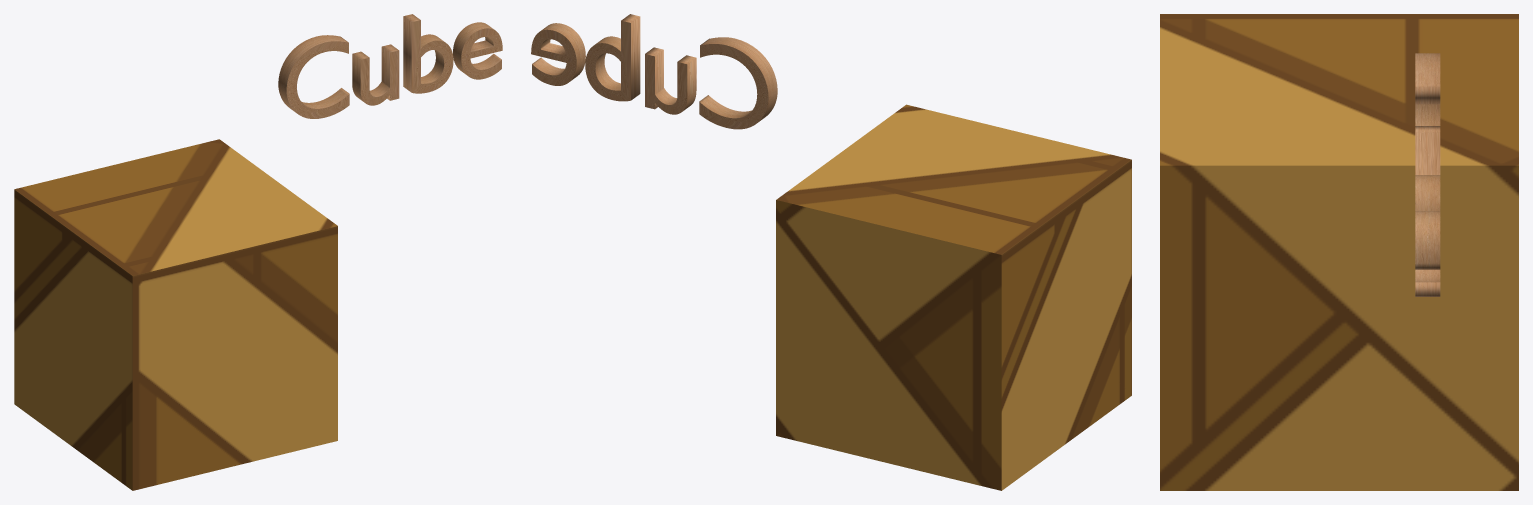
File: cubeboxtextured.gltf
3 views of the same model, side by side, from view 1: azimuth 30°, elevation 25°; view 2: azimuth 150°, elevation 25°; view 3: azimuth 270°, elevation 25° (orthographic). The views are drawn at different scales.
Parts seen in each view (by area): view 1: Cube, Text; view 2: Cube, Text; view 3: Cube, Text.
Part boxes in pixels (x1,y1,x2,y2): Cube: (14, 139, 337, 490); Text: (278, 14, 502, 118); Cube: (776, 104, 1131, 490); Text: (531, 14, 777, 129); Cube: (1160, 14, 1518, 490); Text: (1415, 53, 1440, 296).
Bounding box in the file's own units: 4.43 × 2.97 × 2.
2 materials, 2 textured.
